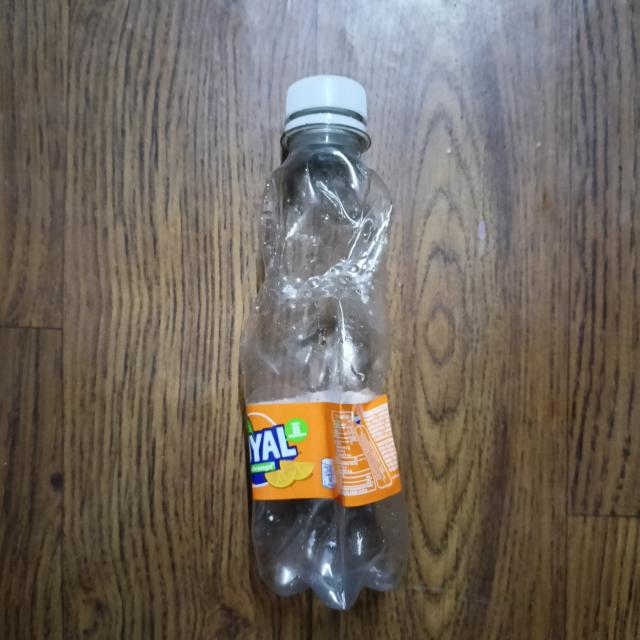Bottle: (240, 75, 412, 615)
